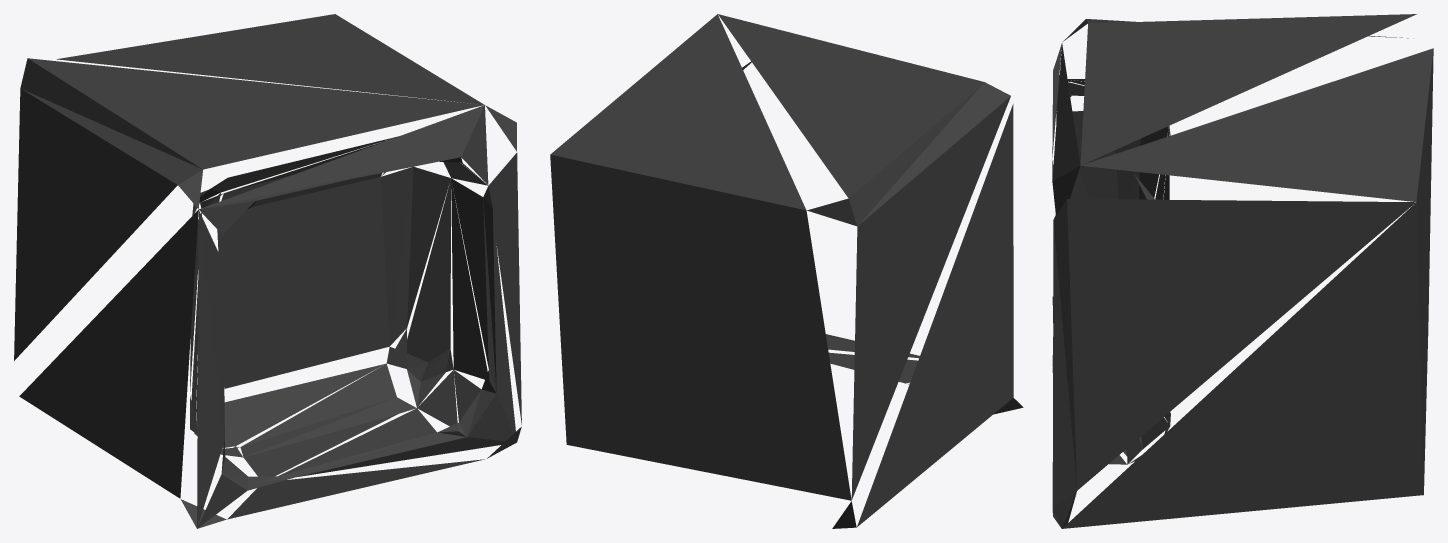
File: candidate_00.glb
3 views of the same model, side by side, from view 1: azimuth 30°, elevation 25°; view 2: azimuth 150°, elevation 25°; view 3: azimuth 270°, elevation 25° (orthographic). The views are drawn at different scales.
Parts seen in each view (by area): view 1: world; view 2: world; view 3: world.
Part boxes in pixels (<box>): world: <box>14,14,521,528</box>; world: <box>550,14,1023,528</box>; world: <box>1052,14,1433,528</box>.
Bounding box in the file's own units: 9.97 × 9.96 × 9.55.
1 material, 1 textured.
